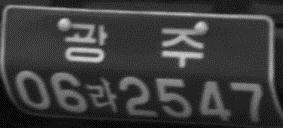0: (14, 69, 49, 110)
2: (118, 75, 155, 116)
4: (199, 80, 230, 122)
5: (156, 77, 192, 119)
6: (51, 71, 86, 113)
7: (231, 82, 263, 124)
광주_D: (63, 20, 203, 68)
라: (87, 77, 117, 114)
